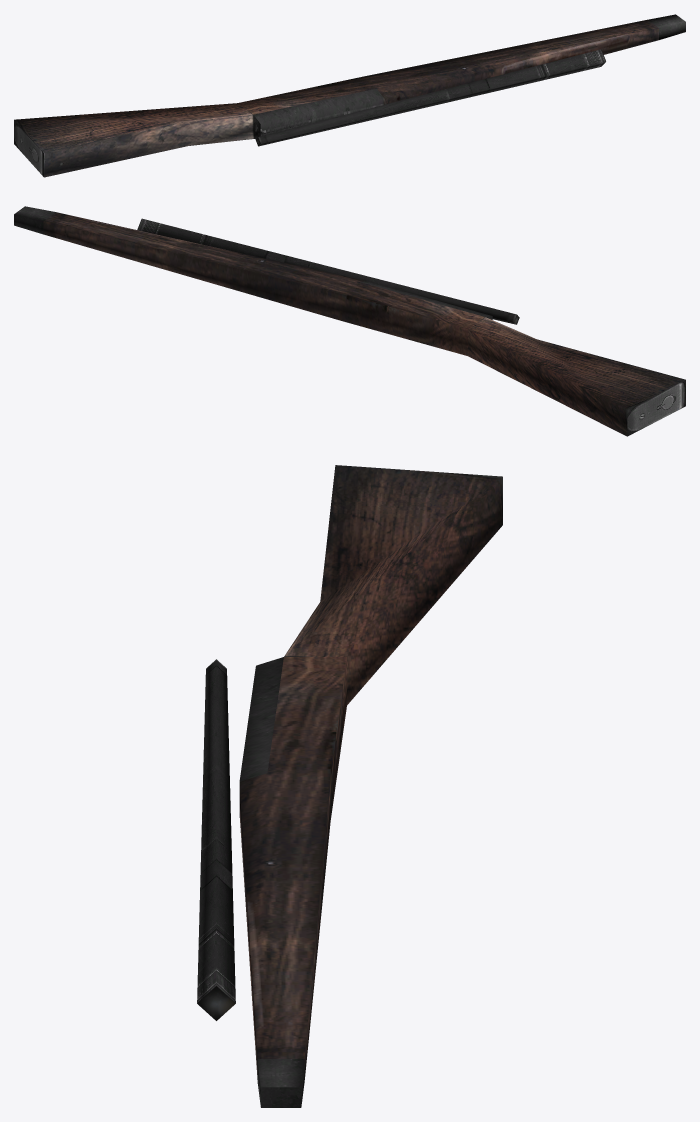
File: weapon_usa_springfield_rifle_scoped_LOD21.obj
3 views of the same model, one above another, from view 1: azimuth 30°, elevation 25°; view 2: azimuth 150°, elevation 25°; view 3: azimuth 270°, elevation 25° (orthographic). The views are drawn at different scales.
Visible parts, largest first — view 1: TomGroup_2, TomGroup_1, TomGroup_0; view 2: TomGroup_2, TomGroup_1, TomGroup_0; view 3: TomGroup_2, TomGroup_1, TomGroup_0.
Boxes of the visible parts, x1,y1,x2,y2 form: TomGroup_2: (14, 19, 658, 177); TomGroup_1: (256, 49, 605, 146); TomGroup_0: (14, 14, 685, 176); TomGroup_2: (43, 212, 685, 436); TomGroup_1: (137, 218, 519, 324); TomGroup_0: (14, 206, 685, 436); TomGroup_2: (239, 465, 502, 1079); TomGroup_1: (197, 659, 235, 1020); TomGroup_0: (239, 657, 304, 1107).
Size of the model in its own units: 118 by 4.4 by 25.04.
Materials: 2 (2 with a texture image).
